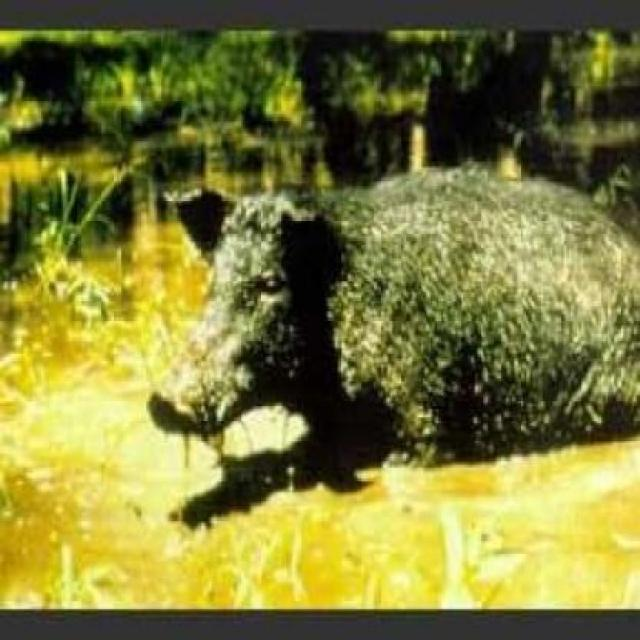pig: (126, 102, 639, 510)
